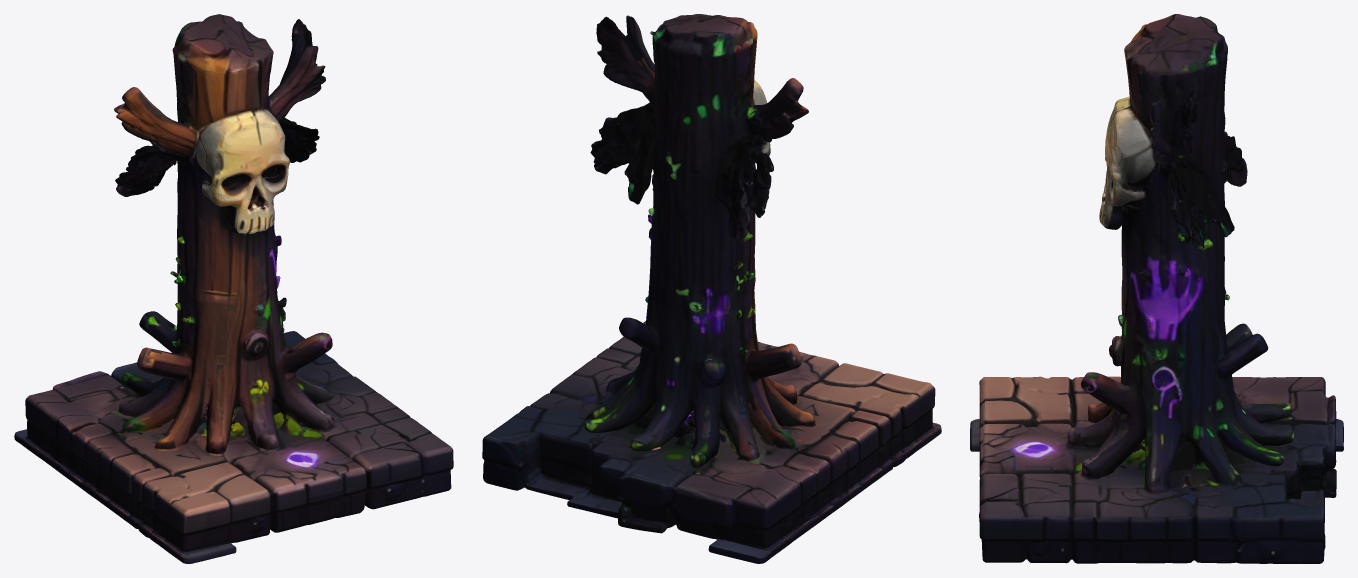
The model's file is hex_paint.glb.
3 renders of one model, left to right at view 1: azimuth 30°, elevation 25°; view 2: azimuth 150°, elevation 25°; view 3: azimuth 270°, elevation 25°, orthographic. The views are drawn at different scales.
Visible parts, largest first — view 1: temp_mesh.ply; view 2: temp_mesh.ply; view 3: temp_mesh.ply.
Boxes of the visible parts, box(x1,y1,x2,y2) form: temp_mesh.ply: box(14, 14, 453, 563); temp_mesh.ply: box(482, 14, 941, 563); temp_mesh.ply: box(970, 14, 1343, 563).
Bounding box in the file's own units: 1.33 × 1.97 × 1.44.
1 material, 1 textured.
